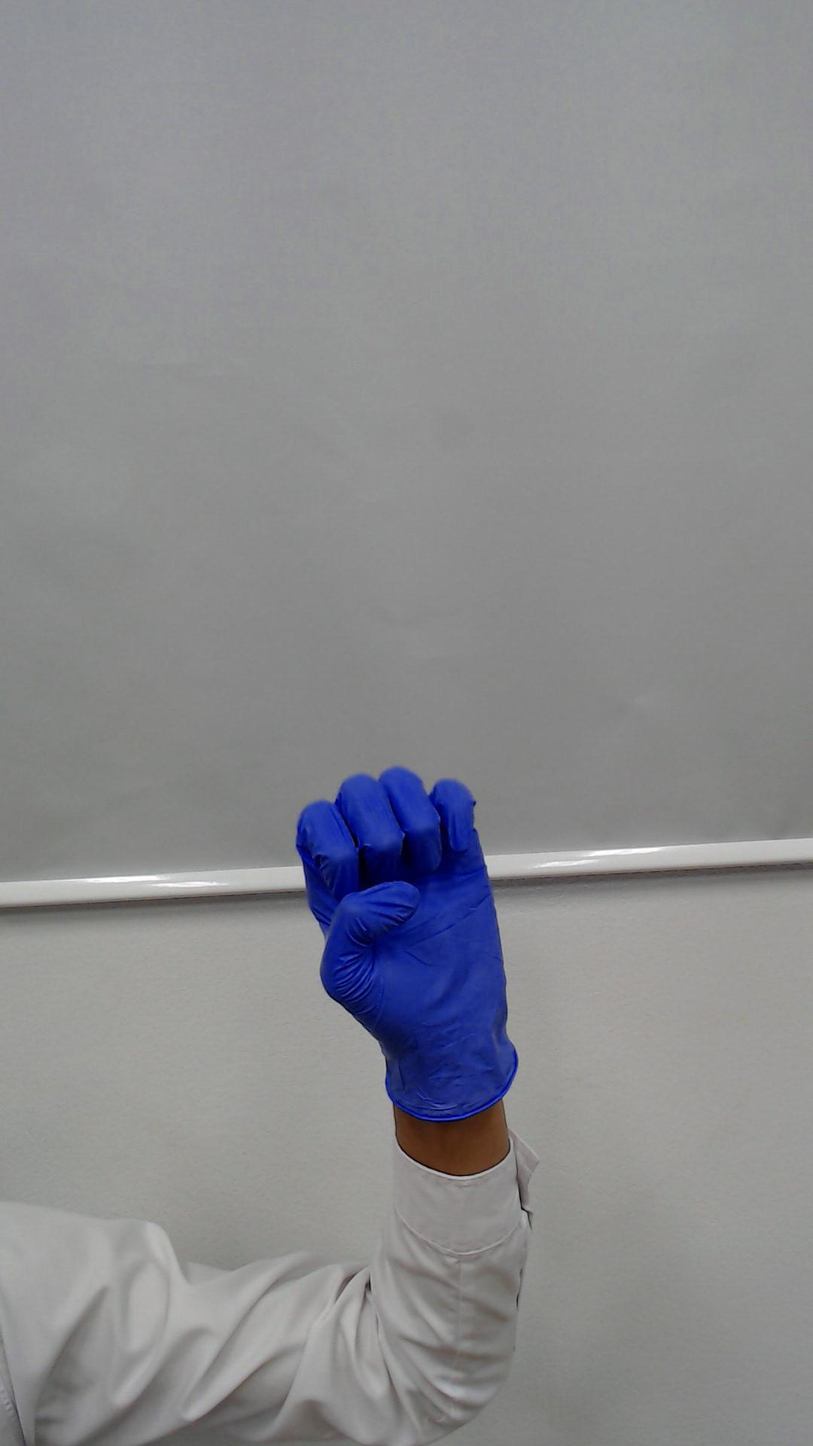gloves: (279, 716, 524, 1033)
